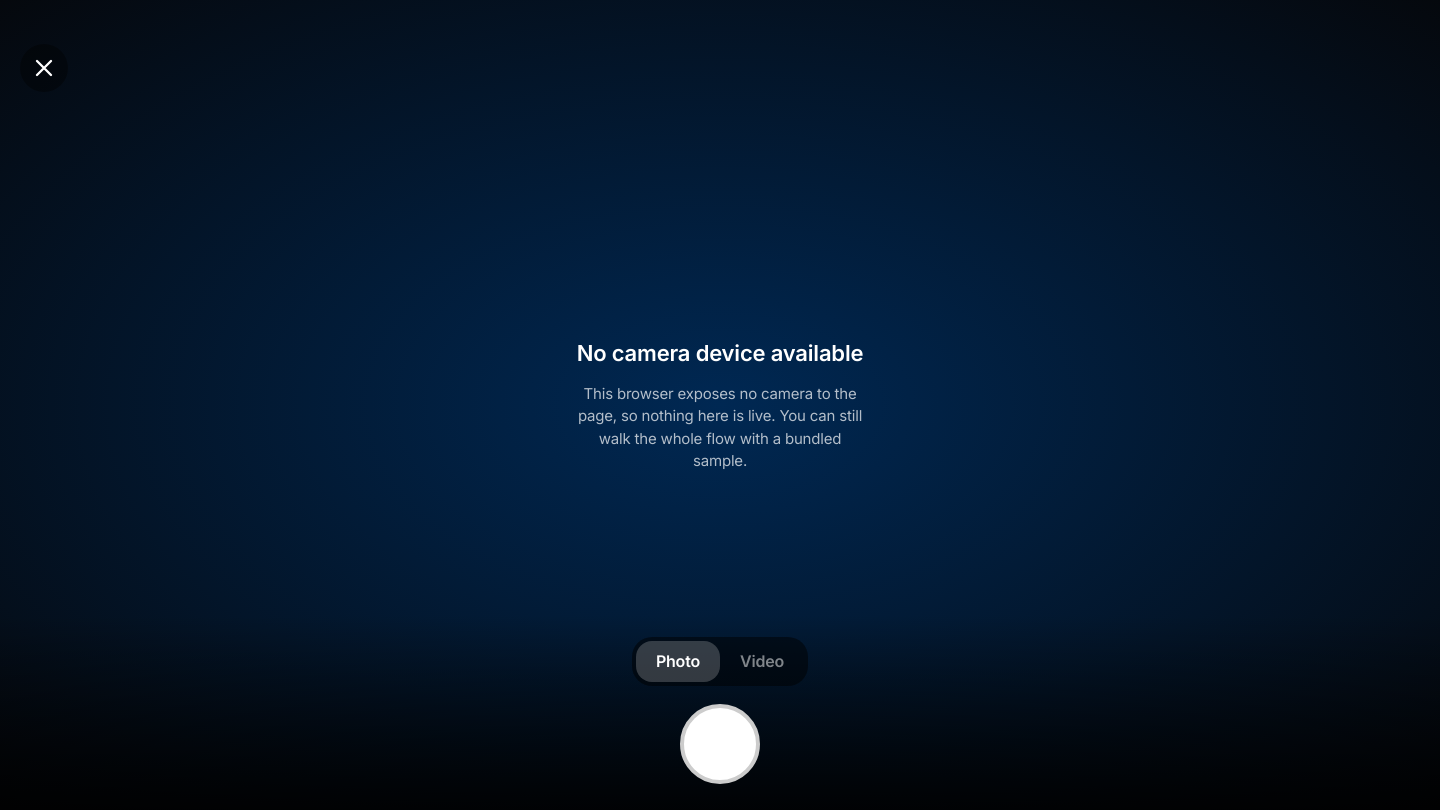
no capture capability — the honest sample path › says what the shutter will really do — never the phone’s “Take photo” over a bundled file
This screenshot has width=1440, height=810.
Click the button with aria-label "Video mode": (762, 662) [720,642,804,682]
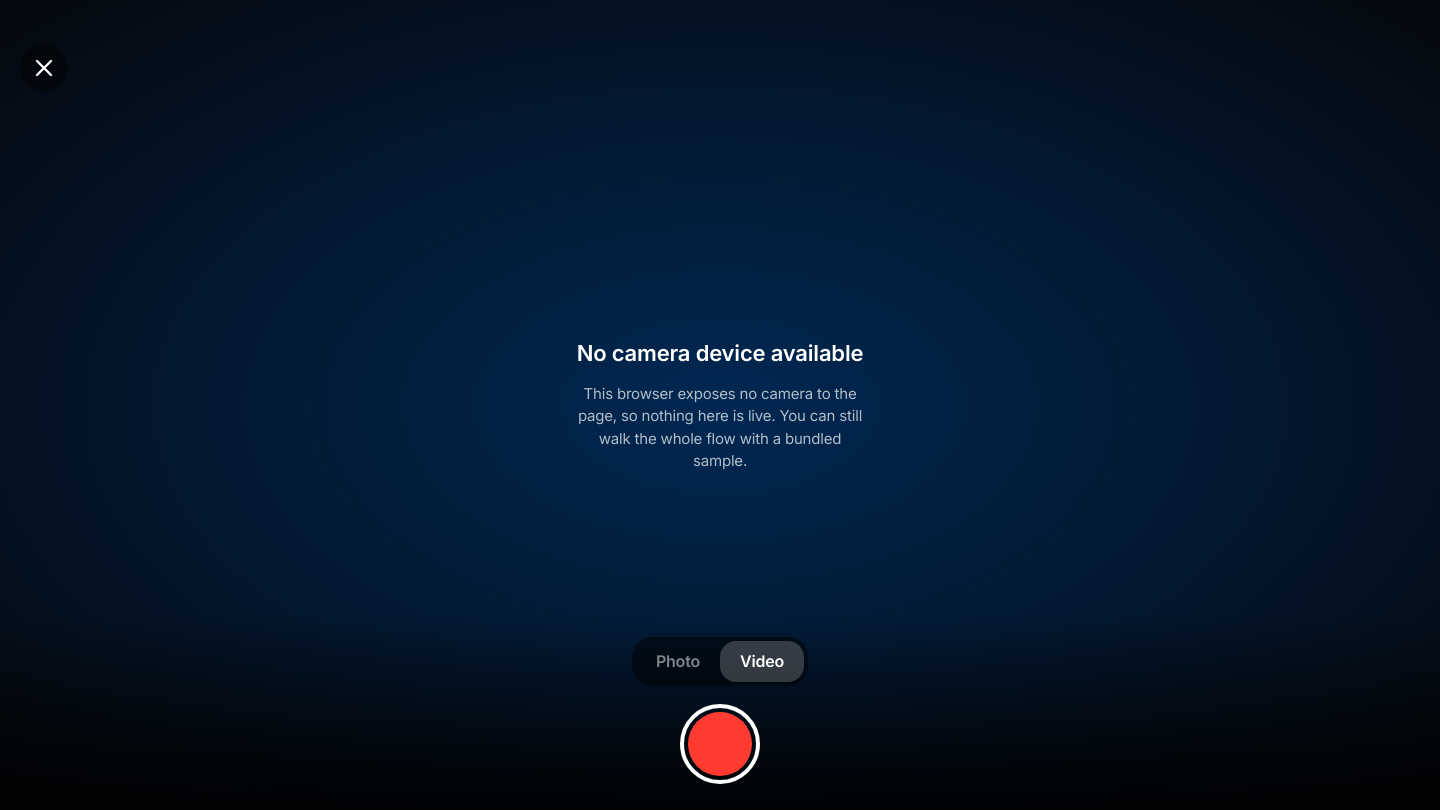
Check: the button named "Attach sample clip" is shown, box [680,704,760,784]
